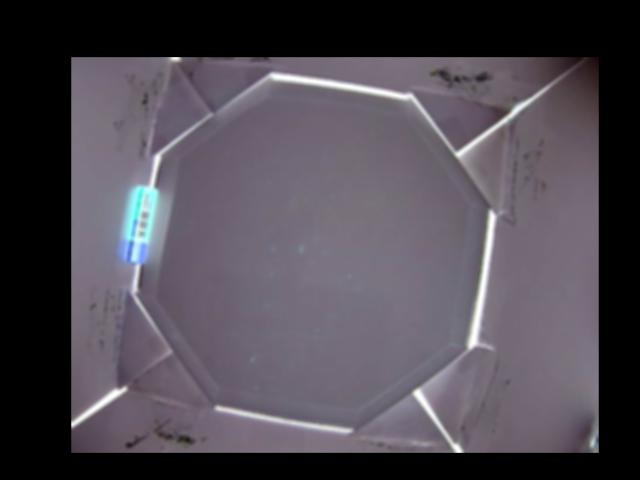Battery: (124, 184, 157, 264)
